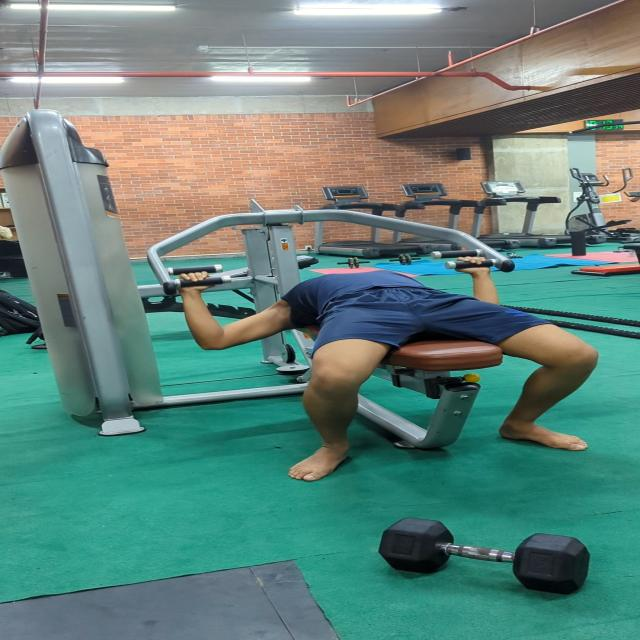Normal_BrenchPress: (146, 234, 640, 474)
